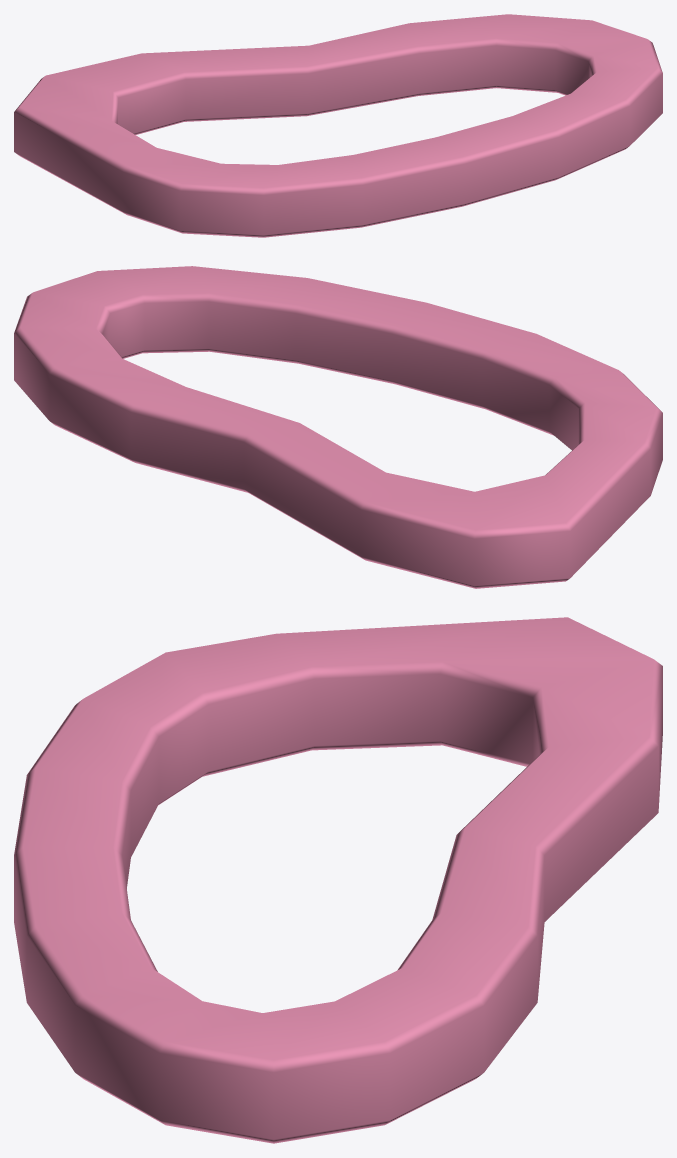
The model's file is Squid_1_Ring_2.fbx.
The picture shows the model from 3 angles, top to bottom: view 1: azimuth 30°, elevation 25°; view 2: azimuth 150°, elevation 25°; view 3: azimuth 270°, elevation 25°; orthographic projection. The views are drawn at different scales.
Parts seen in each view (by area): view 1: Squid_1_Ring_2; view 2: Squid_1_Ring_2; view 3: Squid_1_Ring_2.
Boxes of the visible parts, x1,y1,x2,y2 form: Squid_1_Ring_2: (14, 14, 662, 237); Squid_1_Ring_2: (14, 266, 662, 588); Squid_1_Ring_2: (14, 617, 662, 1143).
Size of the model in its own units: 11.96 by 1.03 by 7.27.
